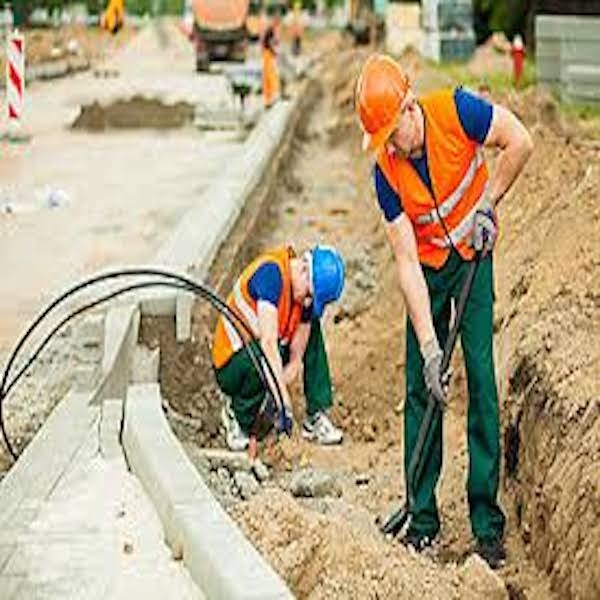helmet: (360, 51, 413, 145), (313, 242, 343, 316)
vest: (399, 92, 491, 258), (215, 244, 301, 376)
